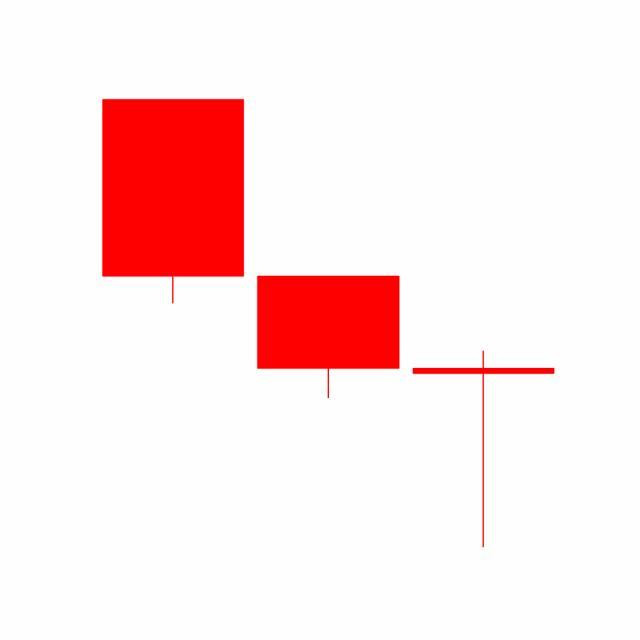Spinning Top: (406, 349, 562, 550)
